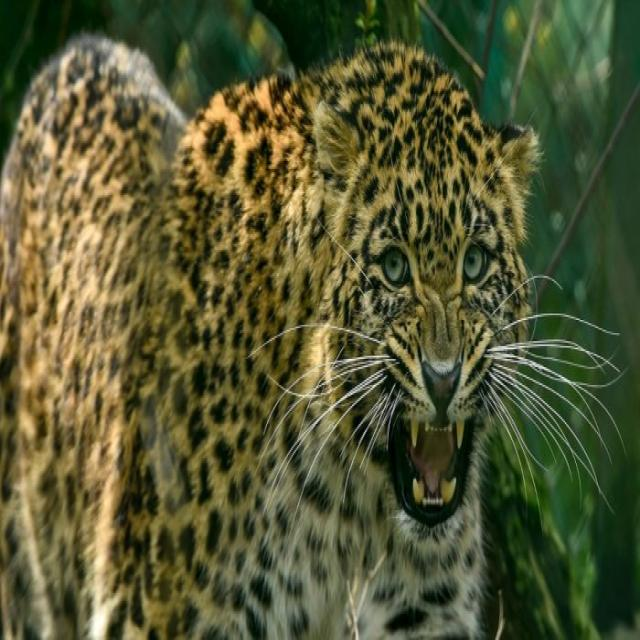Leopard: (0, 37, 537, 640)
